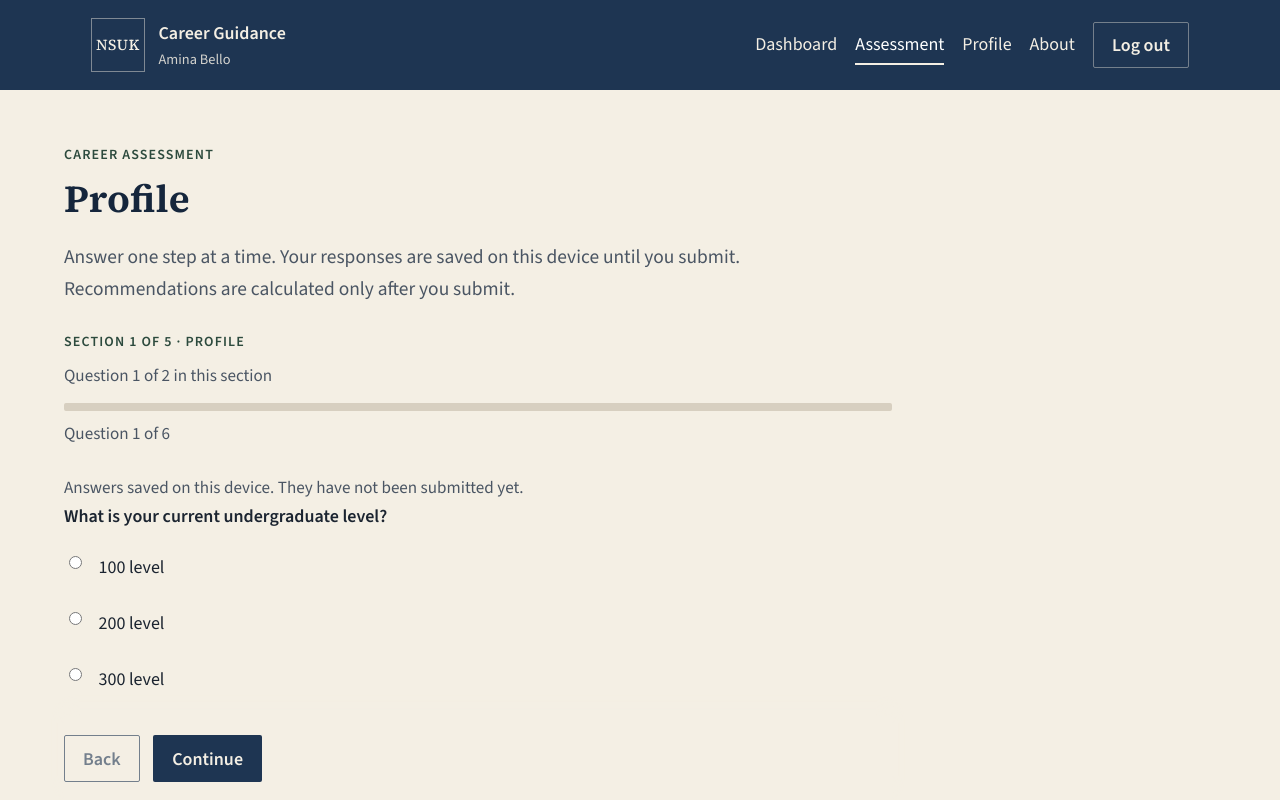
Test: navigates between sections and keeps answers when going back
Expected: the text "What is your current undergraduate level?" is shown, [64,502,387,531]
Click the radio button labelled "300 level".
click(76, 674)  # box [69,668,82,681]
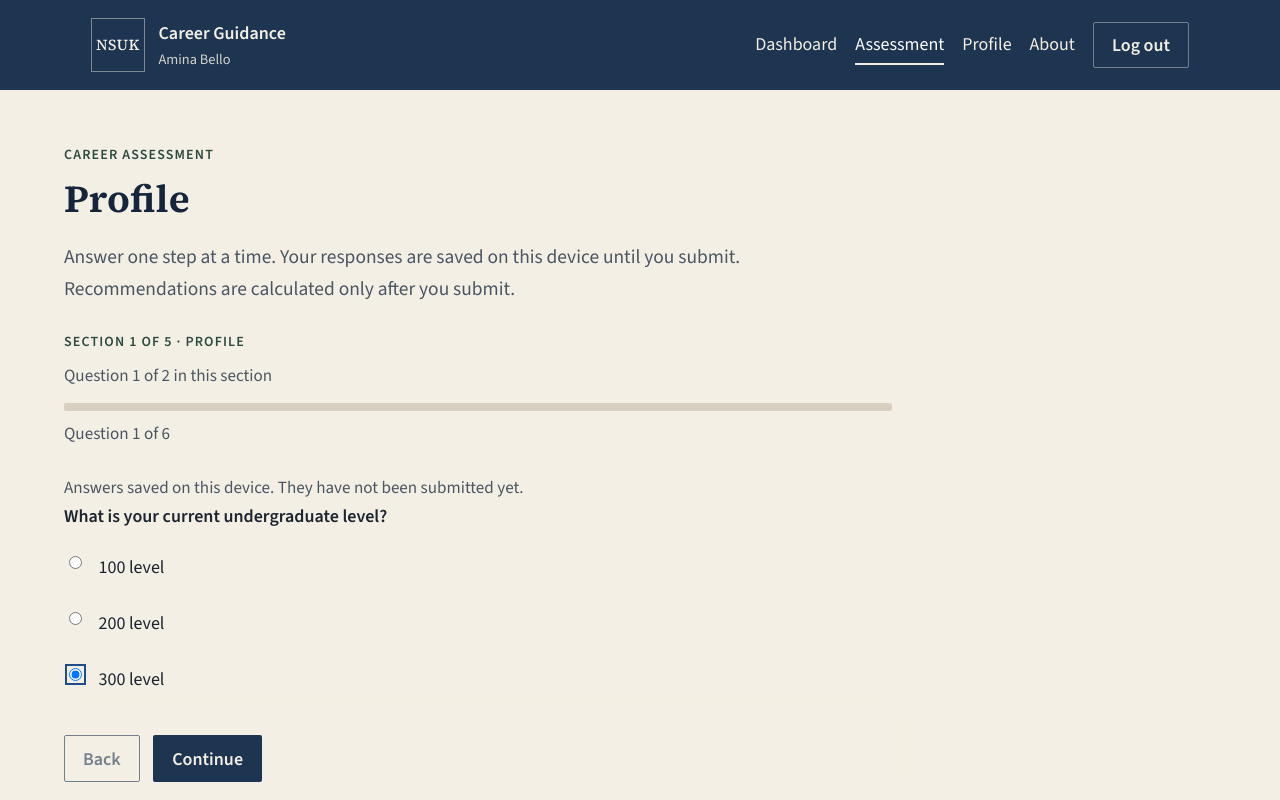
Click the button "Continue".
click(208, 758)  # box [153,735,262,782]
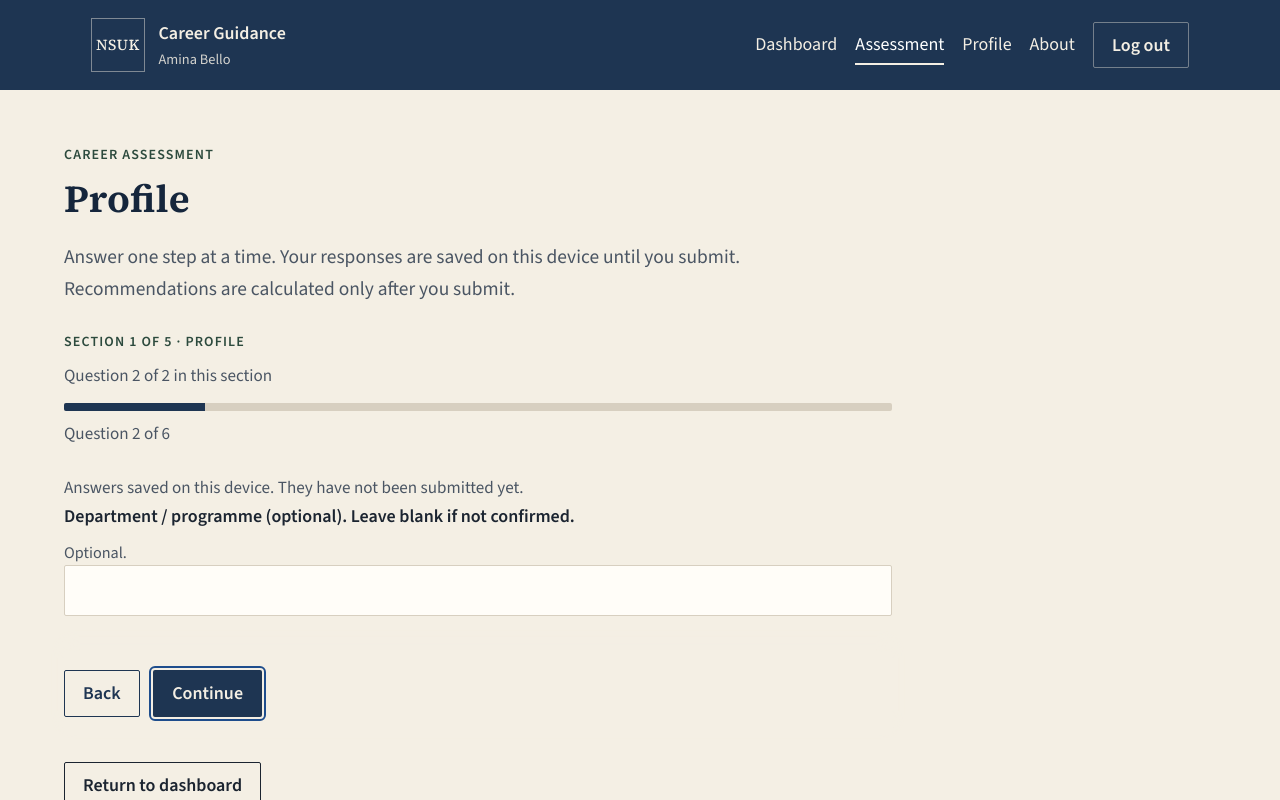
Now the field labelled "Department / programme" is shown, box [64,566,892,616]
Click the button "Back".
click(102, 694)  # box [64,670,140,717]
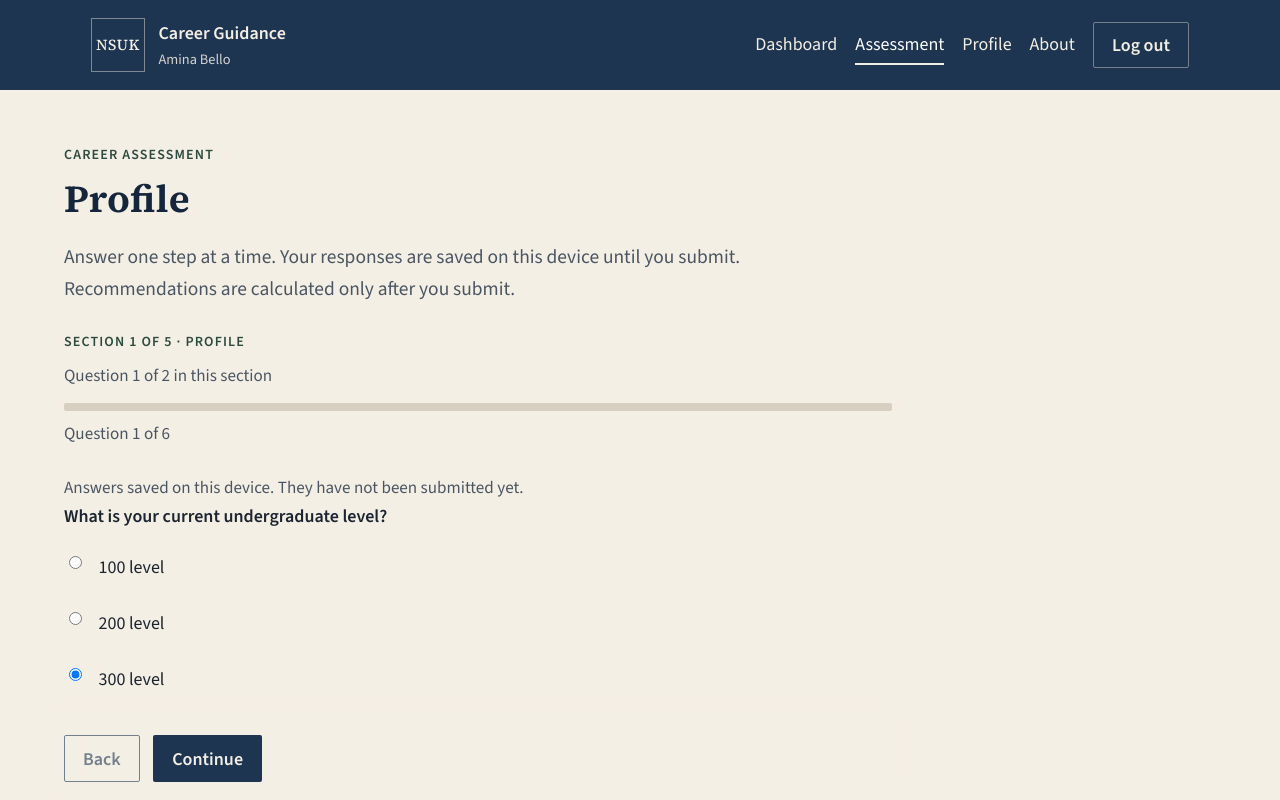
Now the radio button labelled "300 level" is checked, box [69,668,82,681]
